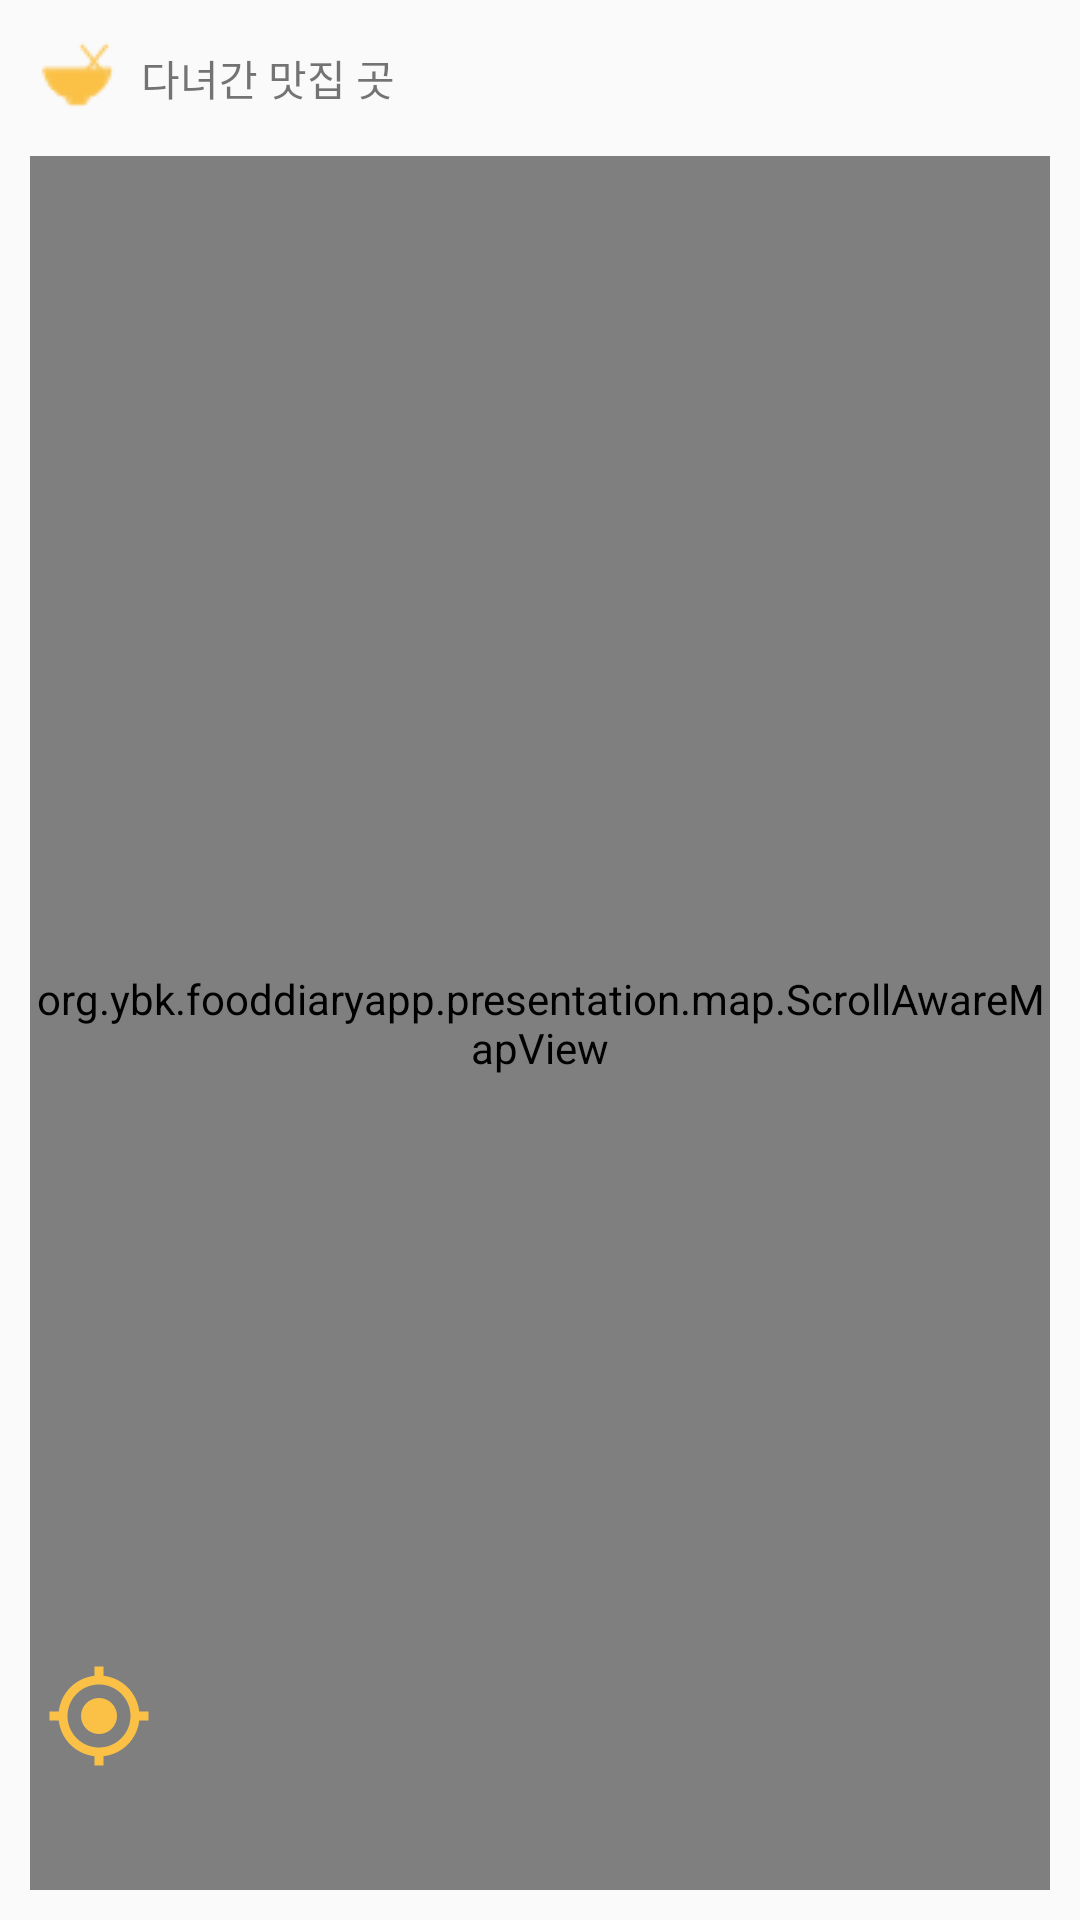

Screen size 1080 × 1920. Icon name, then its center in pixels as [x,y]:
location yes: [99,1716]
